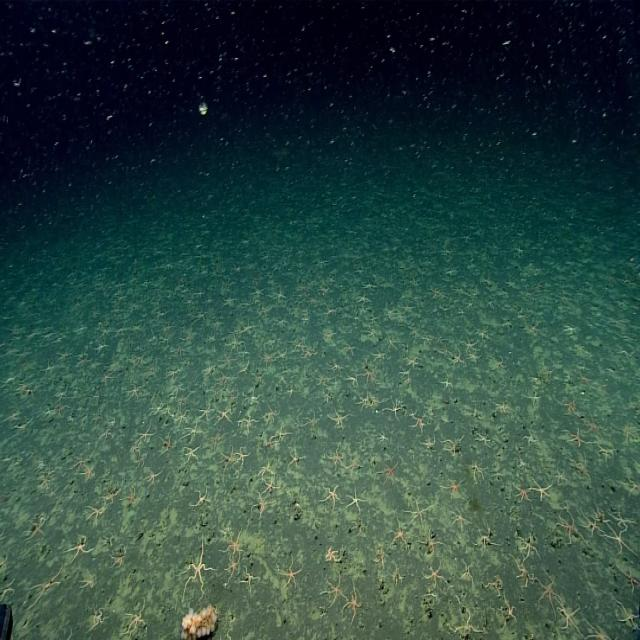brittle-stars: (168, 532, 214, 603), (22, 560, 65, 613), (444, 600, 492, 640), (530, 572, 570, 620), (546, 502, 584, 550), (119, 587, 152, 640), (398, 494, 435, 538), (606, 512, 640, 559), (340, 582, 370, 632), (272, 552, 307, 593), (317, 570, 348, 616), (414, 559, 451, 597), (215, 521, 248, 563), (371, 454, 403, 497), (240, 488, 278, 524), (475, 508, 509, 547), (60, 532, 94, 570), (415, 526, 451, 560), (557, 603, 591, 639), (558, 423, 595, 455), (105, 541, 134, 580), (338, 482, 368, 519), (22, 504, 49, 545), (176, 440, 205, 476), (436, 429, 465, 464), (317, 482, 343, 521), (453, 556, 481, 592), (220, 549, 247, 586), (585, 608, 616, 640), (312, 540, 347, 568), (526, 476, 556, 508), (562, 452, 592, 484), (387, 516, 411, 555), (138, 467, 164, 502), (558, 386, 588, 416), (437, 474, 468, 503), (187, 482, 212, 517), (235, 570, 261, 603), (612, 500, 637, 534), (86, 602, 110, 637), (178, 420, 208, 448), (368, 540, 392, 575), (508, 551, 534, 583), (78, 501, 109, 527), (254, 402, 284, 428), (518, 532, 544, 562), (323, 443, 347, 475), (619, 563, 640, 599), (396, 290, 423, 318), (118, 380, 144, 409), (279, 447, 305, 476), (326, 406, 351, 436), (298, 404, 324, 432), (511, 482, 535, 512), (580, 416, 610, 440), (498, 592, 519, 626), (402, 409, 429, 435), (415, 428, 439, 457), (382, 330, 406, 359), (216, 446, 237, 479), (318, 319, 339, 352), (0, 543, 19, 579), (120, 482, 142, 513), (443, 508, 470, 533), (619, 600, 640, 632), (255, 344, 279, 372), (462, 461, 491, 484), (616, 469, 639, 498), (53, 618, 83, 640), (232, 438, 252, 471), (341, 451, 363, 481), (340, 369, 364, 396), (583, 510, 601, 546), (68, 445, 91, 473), (232, 412, 260, 435), (234, 315, 257, 343), (95, 423, 118, 451), (313, 366, 335, 395), (381, 399, 406, 424), (10, 414, 36, 438), (484, 573, 510, 597), (339, 335, 363, 361), (153, 434, 176, 461), (37, 354, 59, 382), (455, 333, 484, 354), (42, 479, 66, 504), (595, 440, 621, 463), (489, 350, 513, 374), (75, 466, 100, 489), (131, 424, 157, 446), (429, 279, 451, 305), (446, 343, 467, 370), (0, 580, 20, 608), (470, 426, 494, 449), (162, 362, 185, 386), (103, 483, 122, 511), (516, 427, 538, 451), (223, 611, 241, 640), (208, 408, 234, 428), (254, 458, 274, 484), (222, 330, 242, 356), (88, 333, 108, 359), (188, 282, 208, 308), (96, 366, 118, 389), (368, 427, 391, 449), (273, 419, 295, 442), (594, 496, 612, 524), (322, 296, 343, 320), (260, 476, 280, 501), (349, 291, 374, 311), (206, 428, 225, 454), (246, 385, 265, 411), (78, 573, 101, 594), (436, 371, 457, 394), (492, 395, 513, 418), (272, 308, 292, 332), (220, 289, 240, 313), (52, 345, 74, 366), (347, 516, 367, 539), (391, 562, 406, 592), (360, 366, 381, 387), (527, 386, 547, 408), (417, 328, 439, 348), (214, 366, 233, 389), (20, 380, 39, 403), (369, 344, 388, 367), (354, 389, 370, 416), (551, 462, 569, 486), (185, 308, 209, 326), (404, 352, 425, 372), (395, 364, 413, 387), (271, 284, 291, 304), (169, 340, 189, 360), (317, 387, 336, 408), (54, 383, 72, 405), (465, 347, 482, 370), (196, 404, 216, 423), (122, 440, 142, 458), (52, 398, 67, 422), (362, 275, 382, 293), (291, 336, 310, 354), (261, 433, 278, 453), (130, 350, 147, 370), (173, 407, 189, 428), (173, 394, 195, 409), (514, 452, 532, 470), (368, 389, 382, 412), (201, 358, 217, 378), (327, 358, 346, 374), (366, 324, 382, 343), (134, 450, 147, 473), (225, 389, 239, 410), (250, 282, 266, 300), (41, 403, 56, 422), (301, 344, 315, 364), (160, 402, 172, 422), (93, 316, 109, 331), (37, 470, 51, 487)
